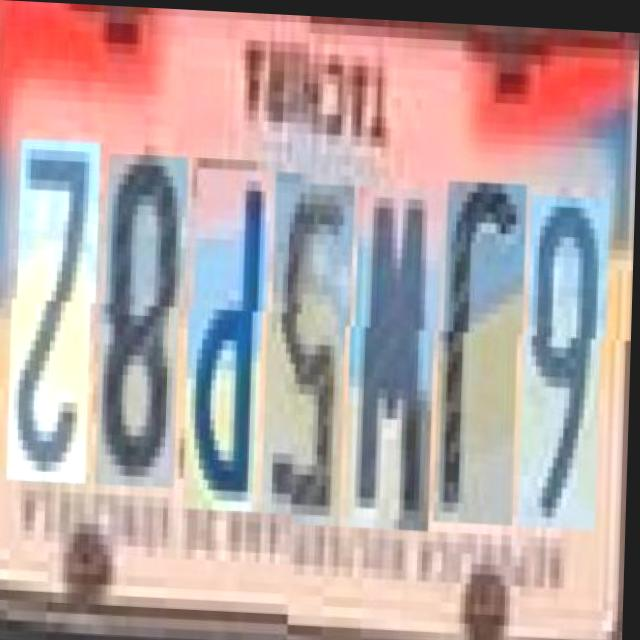2: (10, 138, 96, 483)
5: (264, 168, 351, 513)
6: (520, 178, 606, 513)
8: (98, 151, 184, 487)
j: (436, 166, 523, 510)
p: (186, 165, 268, 510)
w: (348, 171, 440, 517)
